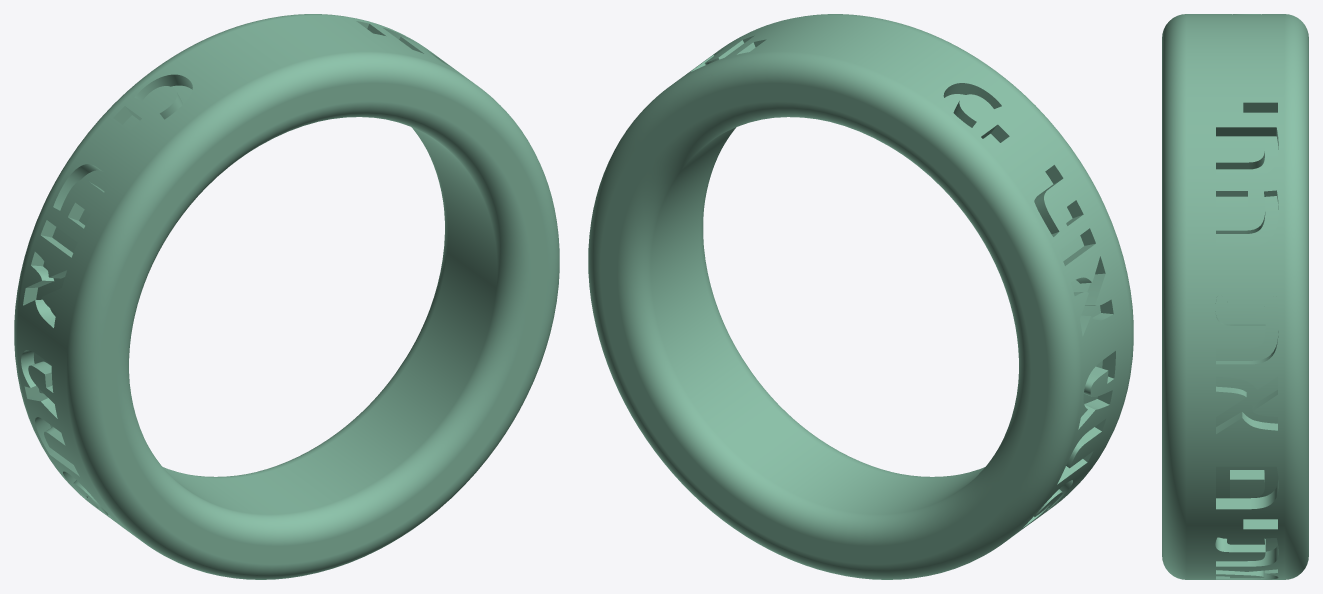
3 renders of one model, left to right at view 1: azimuth 30°, elevation 25°; view 2: azimuth 150°, elevation 25°; view 3: azimuth 270°, elevation 25°, orthographic.
Visible parts, largest first — view 1: Anel hebreico.3dm; view 2: Anel hebreico.3dm; view 3: Anel hebreico.3dm.
Boxes of the visible parts, x1,y1,x2,y2 form: Anel hebreico.3dm: (14, 14, 559, 579); Anel hebreico.3dm: (588, 14, 1133, 579); Anel hebreico.3dm: (1162, 14, 1308, 579).
Bounding box in the file's own units: 2.78 × 2.78 × 0.7224.
